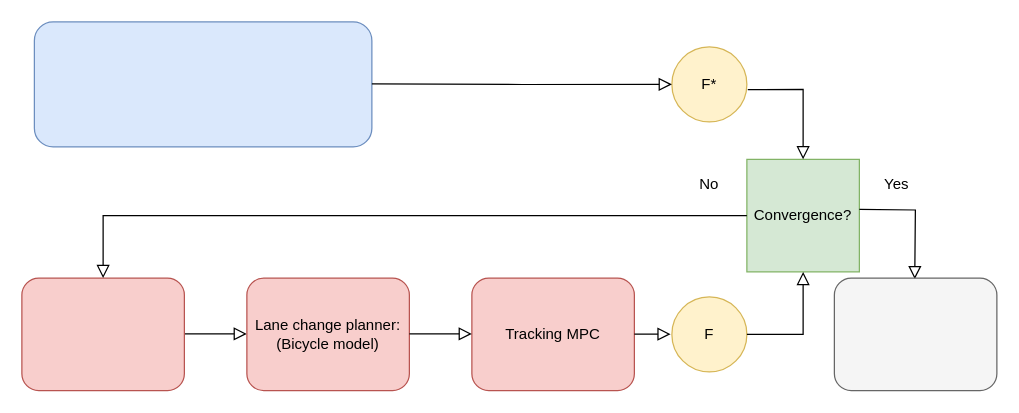
This 1019x413 diagram has some shape labels left out. Here are the shapes that lost their labels. From the top down, the centre of each, then its label:
the point at 202,84: Amesim Dataset: (Path planner lane change + tracking MPC + Amesim model)
the point at 102,334: RPROP update
the point at 915,334: Output weights
